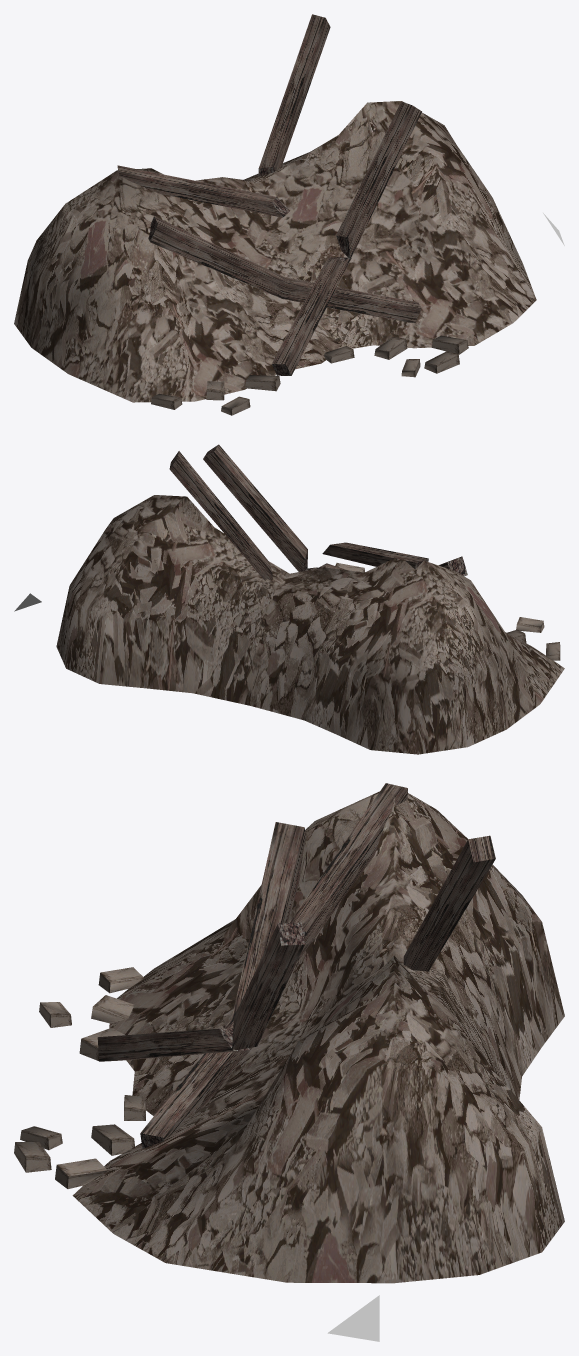
Rendered from R_TunCol.glb.
3 renders of one model, top to bottom at view 1: azimuth 30°, elevation 25°; view 2: azimuth 150°, elevation 25°; view 3: azimuth 270°, elevation 25°, orthographic. The views are drawn at different scales.
Parts seen in each view (by area): view 1: _R_TunCol; view 2: _R_TunCol; view 3: _R_TunCol.
Boxes of the visible parts, <box> form: _R_TunCol: <box>14,14,564,415</box>; _R_TunCol: <box>14,444,564,754</box>; _R_TunCol: <box>14,783,564,1341</box>.
Bounding box in the file's own units: 10.7 × 4.71 × 6.61.
3 materials, 2 textured.
